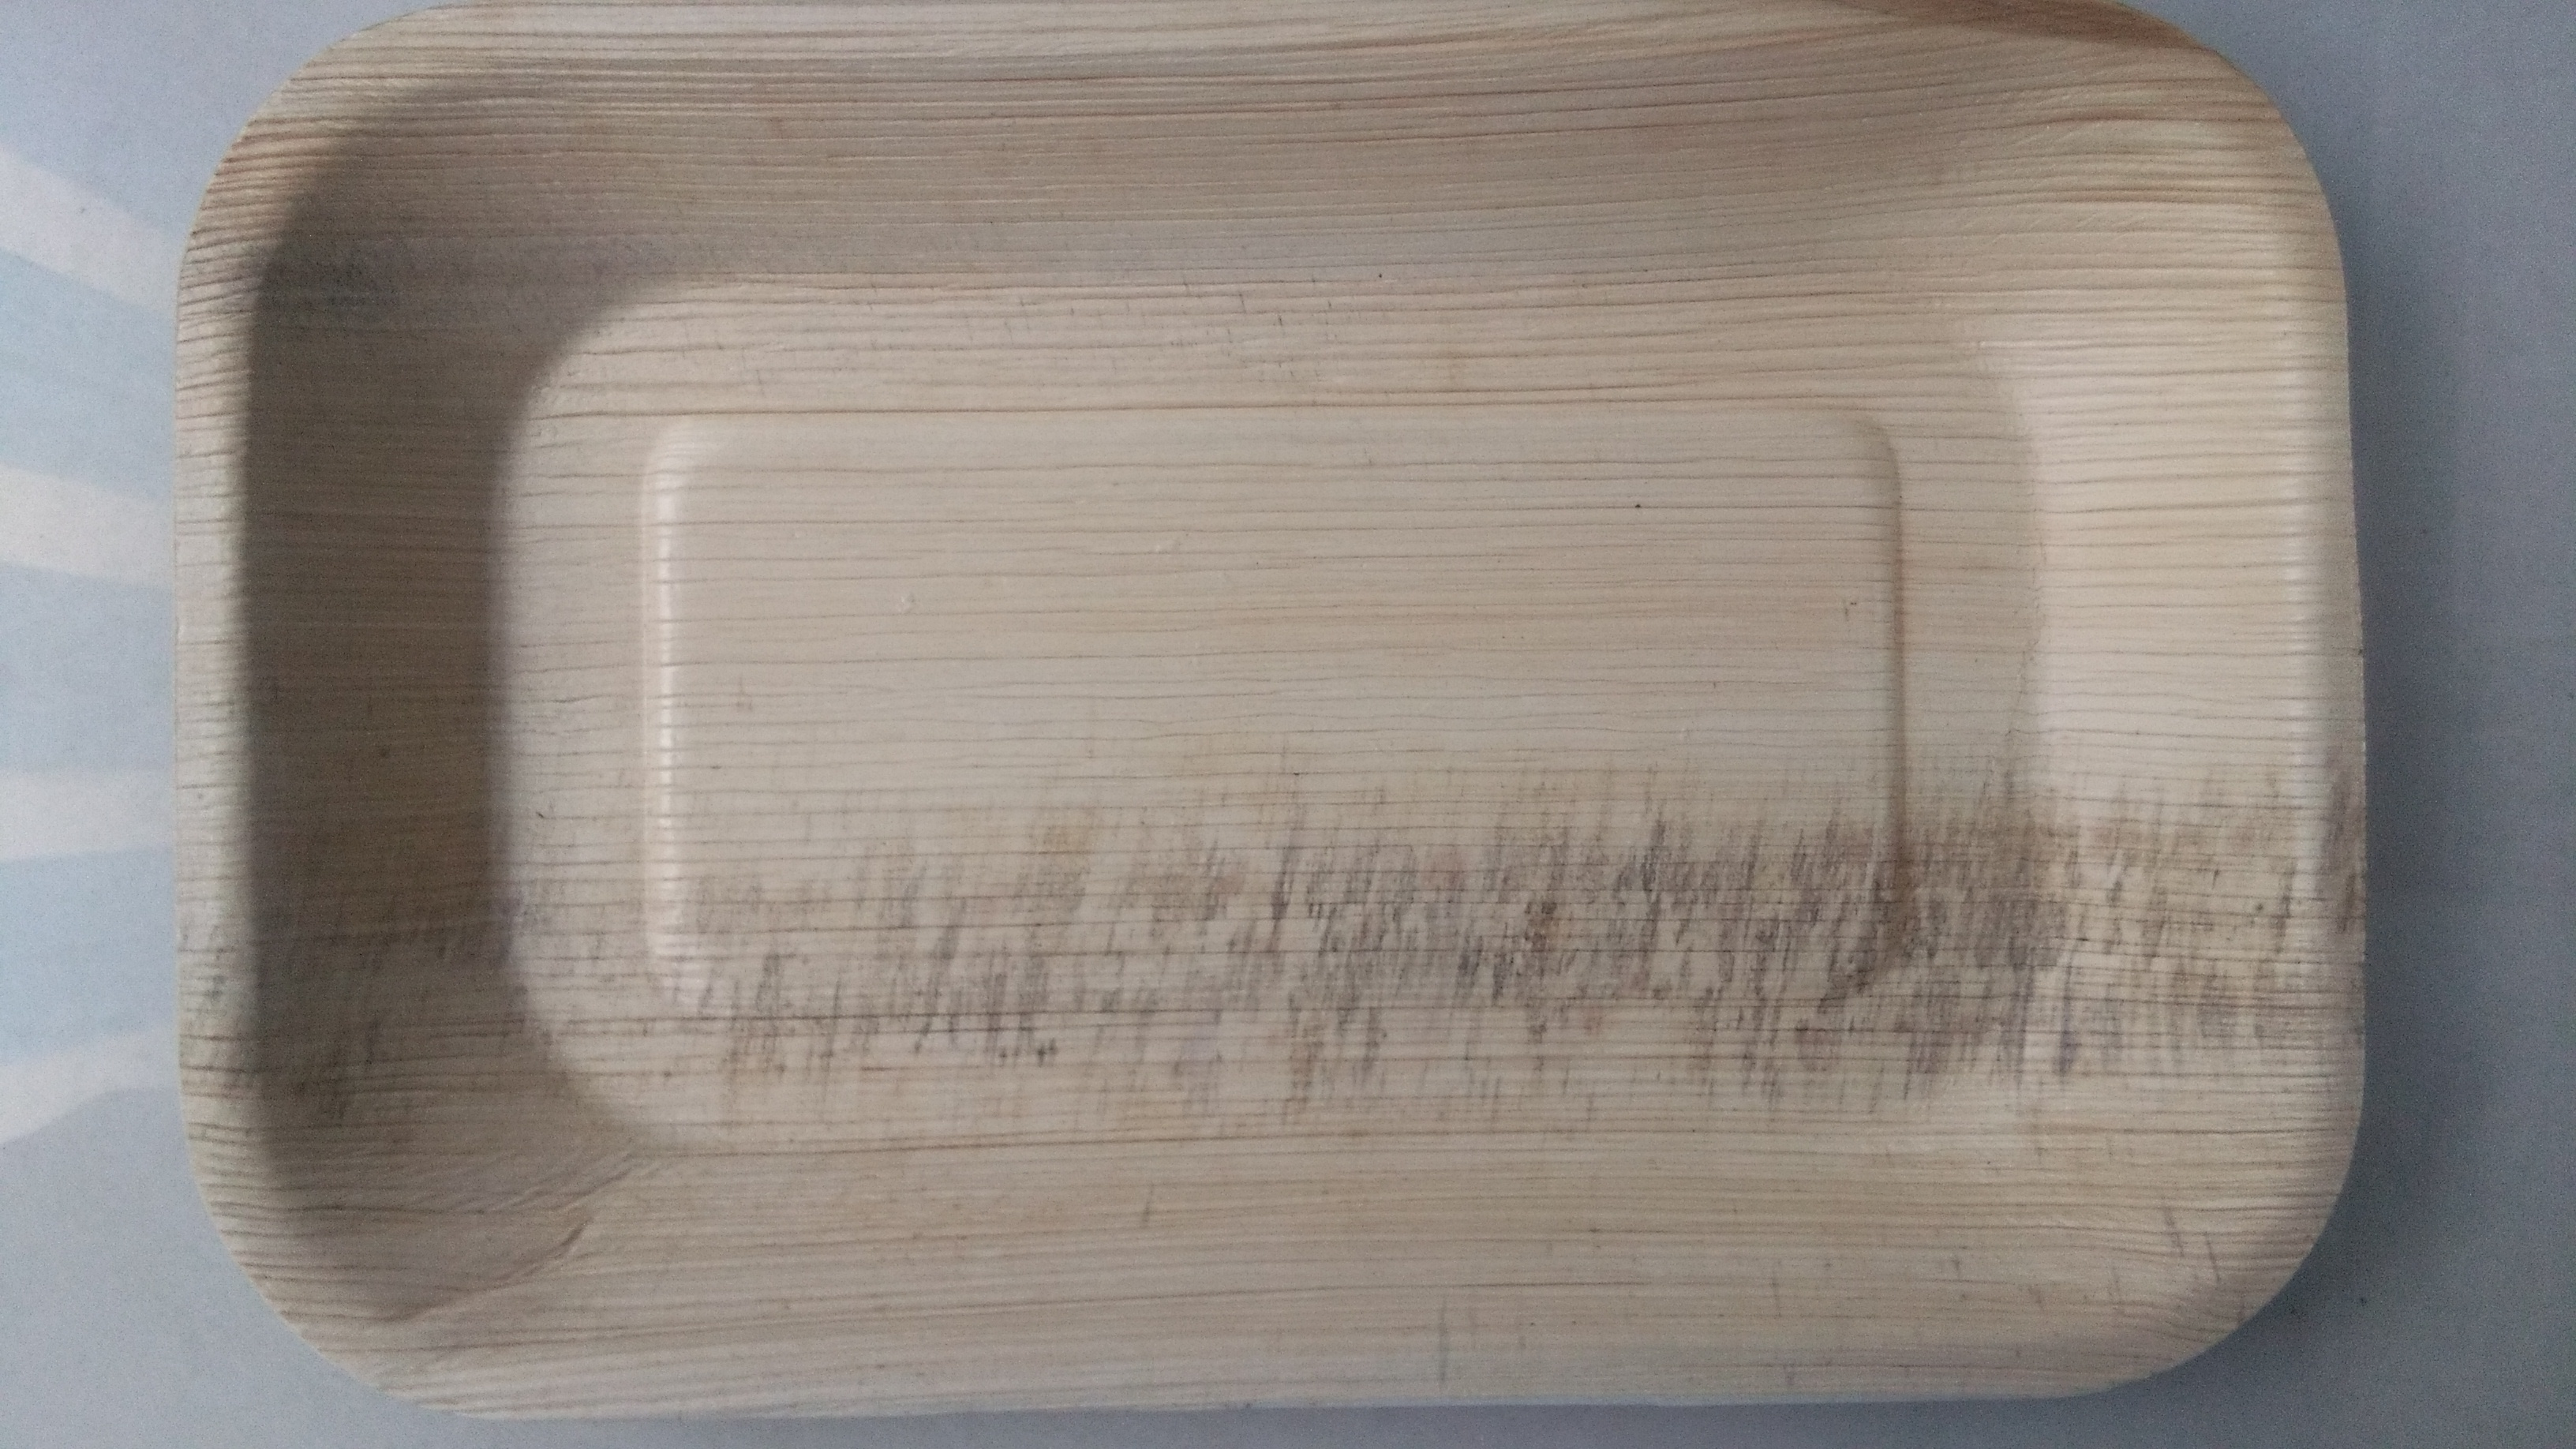areca plate: (184, 16, 2367, 1378)
